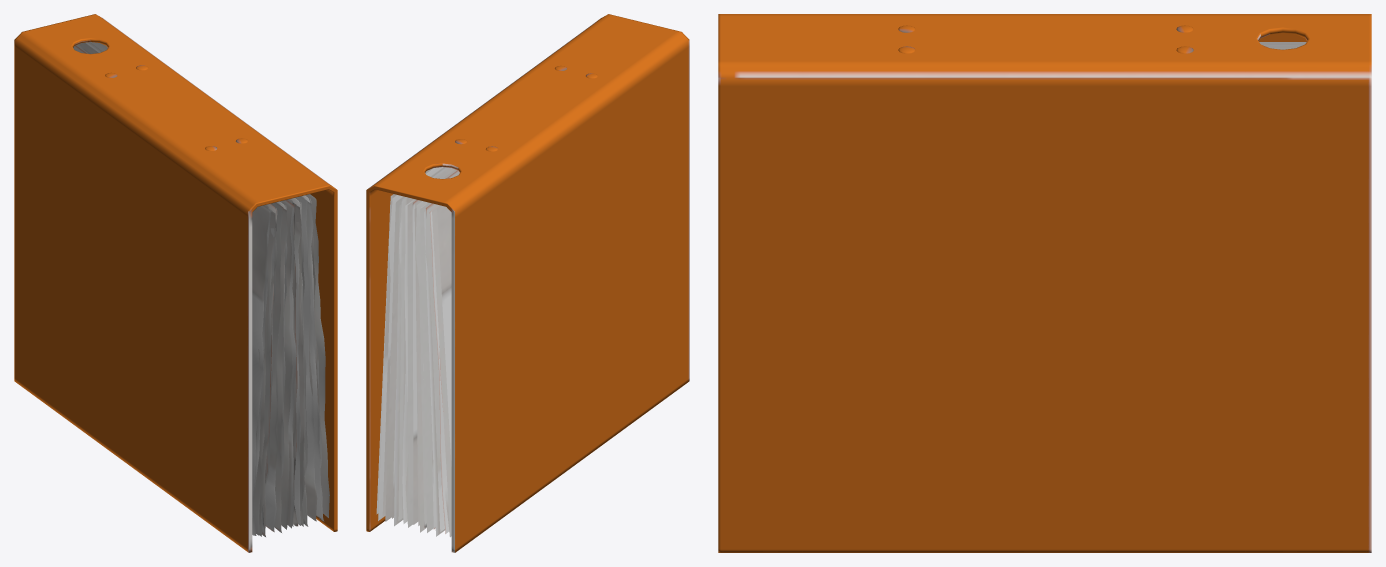
File: orange_book.obj
3 renders of one model, left to right at view 1: azimuth 30°, elevation 25°; view 2: azimuth 150°, elevation 25°; view 3: azimuth 270°, elevation 25°, orthographic. The views are drawn at different scales.
Visible parts, largest first — view 1: orange_book_Chocofur_Office_06.000, orange_book_Chocofur_Office_06.002; view 2: orange_book_Chocofur_Office_06.000, orange_book_Chocofur_Office_06.002; view 3: orange_book_Chocofur_Office_06.000.
Boxes of the visible parts, x1,y1,x2,y2 form: orange_book_Chocofur_Office_06.000: [14, 14, 337, 552]; orange_book_Chocofur_Office_06.002: [73, 42, 329, 536]; orange_book_Chocofur_Office_06.000: [366, 14, 689, 552]; orange_book_Chocofur_Office_06.002: [376, 167, 459, 537]; orange_book_Chocofur_Office_06.000: [718, 14, 1371, 552].
Bounding box in the file's own units: 0.0755 × 0.2833 × 0.3455.
Materials: 3 (3 with a texture image).
